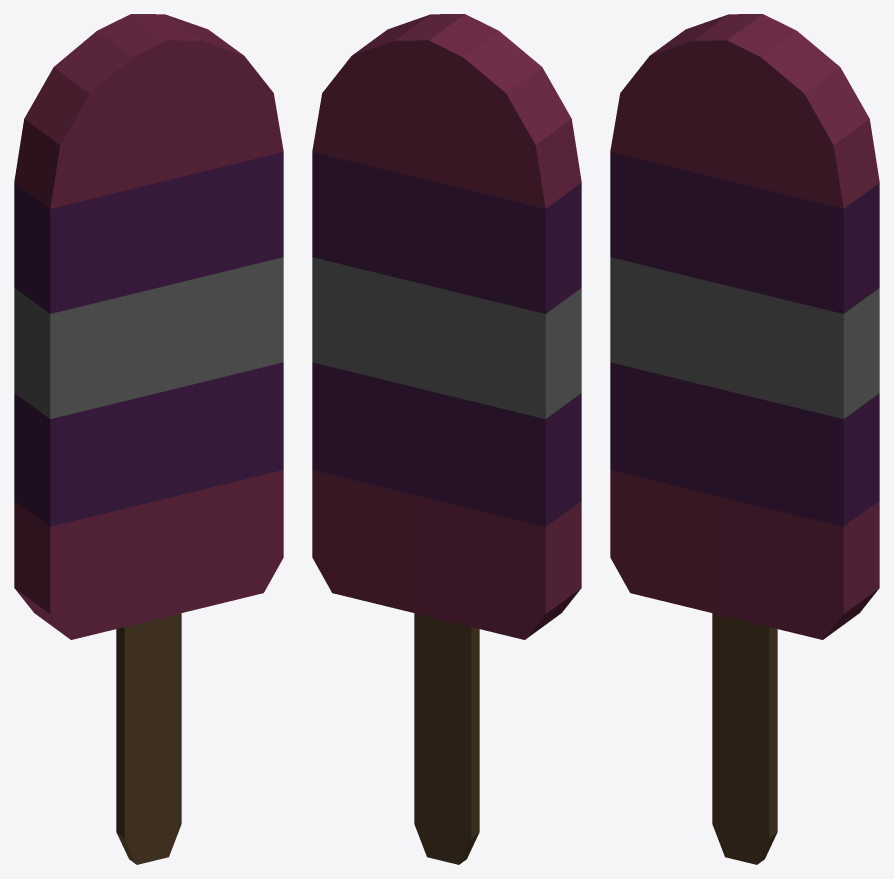
File: Popsicle_Multiple.obj
3 renders of one model, left to right at view 1: azimuth 30°, elevation 25°; view 2: azimuth 150°, elevation 25°; view 3: azimuth 330°, elevation 25°, orthographic.
Parts seen in each view (by area): view 1: Popsicle_Multiple_Cube.031; view 2: Popsicle_Multiple_Cube.031; view 3: Popsicle_Multiple_Cube.031.
Boxes of the visible parts, bbox=[...] form: Popsicle_Multiple_Cube.031: bbox=[14, 14, 283, 864]; Popsicle_Multiple_Cube.031: bbox=[312, 14, 581, 864]; Popsicle_Multiple_Cube.031: bbox=[610, 14, 879, 864].
Bounding box in the file's own units: 0.2911 × 0.99 × 0.0798.
